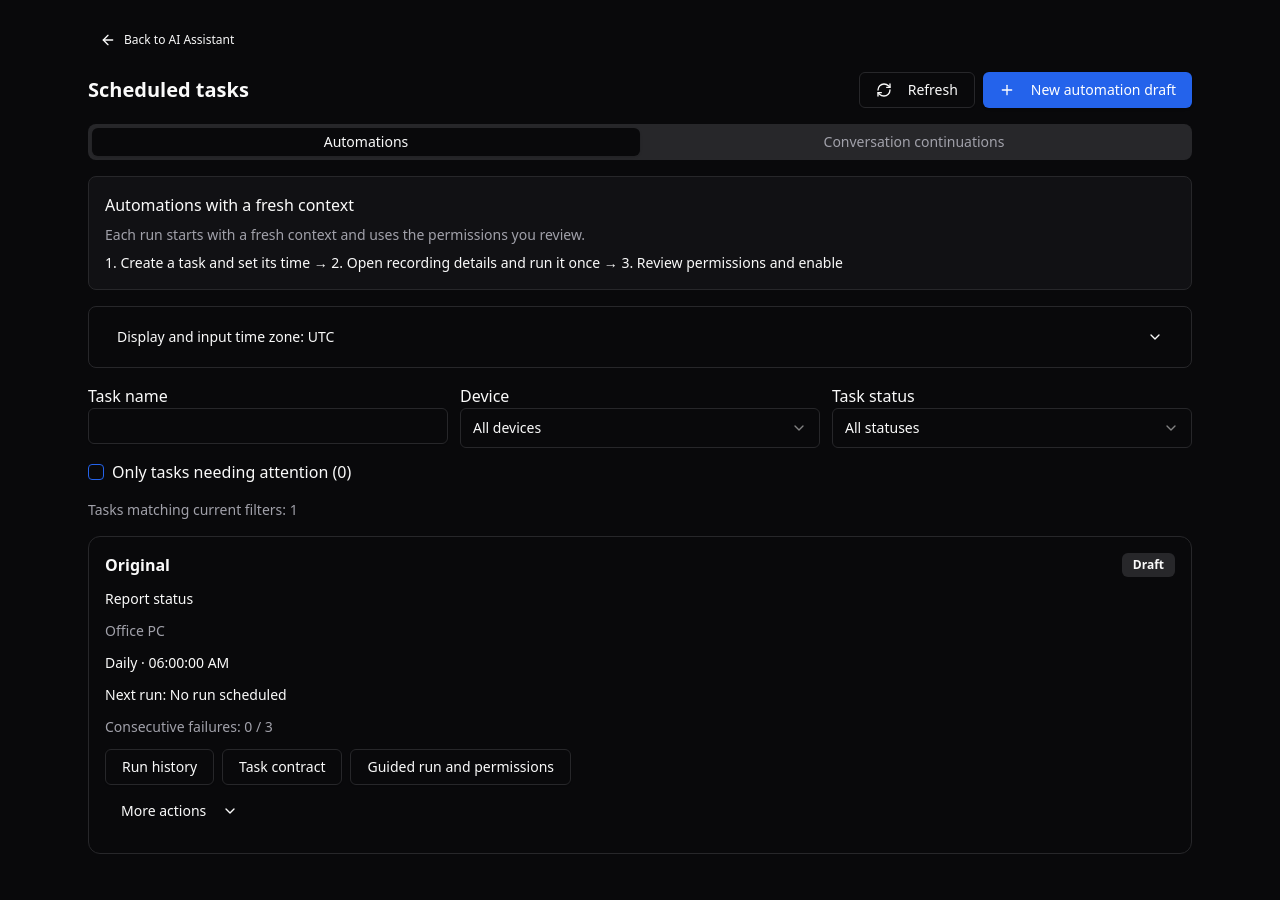
scheduled task management page › shows a rejected edit inside the dialog and retries the same request
Expected: the heading "Original" is shown, [105,553,170,577]
Click the button "More actions".
click(180, 811)  # box [105,793,254,829]
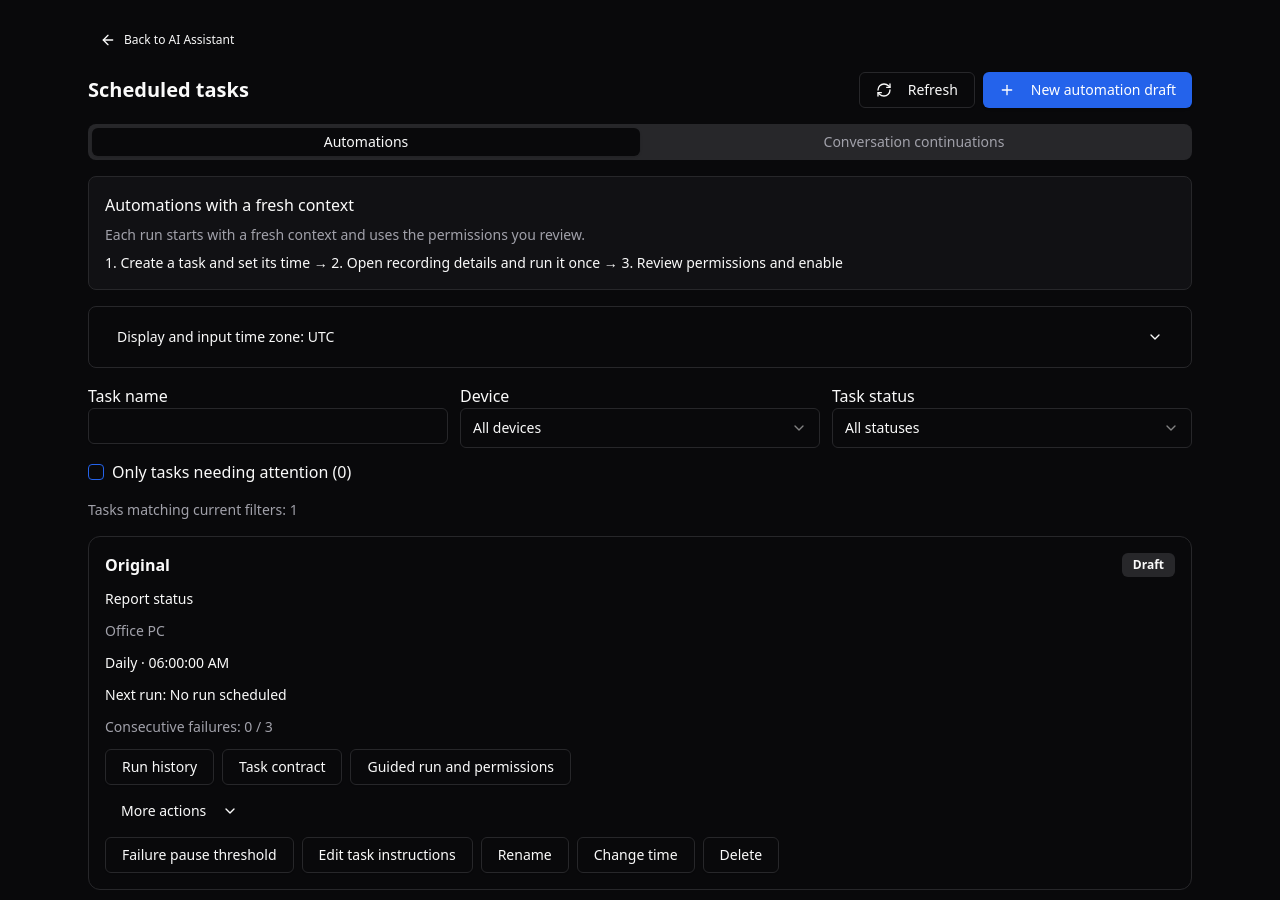
Expected: the button "Change time" is enabled, [577,837,695,873]
Click the button "Rename".
click(525, 855)  # box [481,837,569,873]
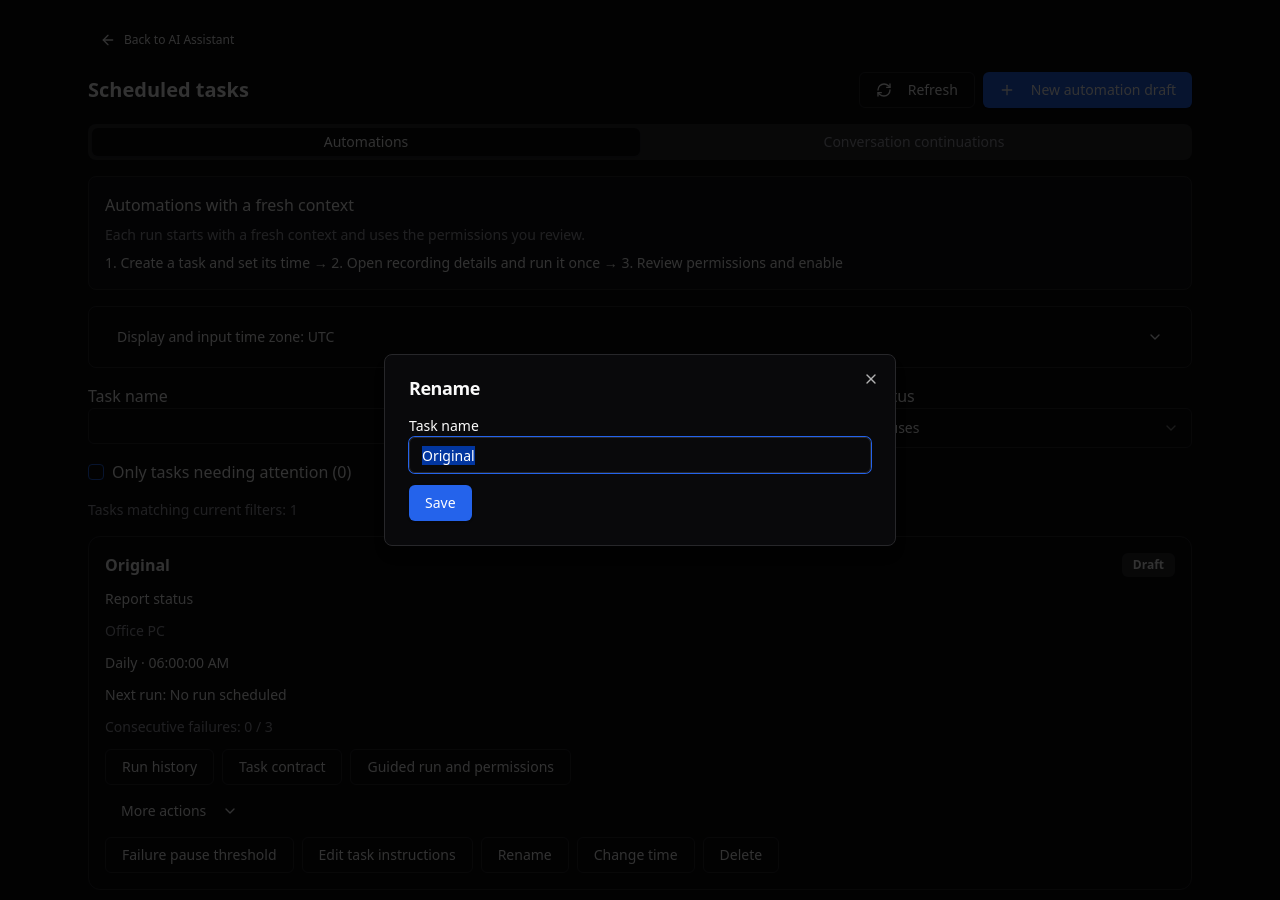
Replace the text in the field labelled "Task name" with "New title" at [640, 455], box [409,437,871,473]
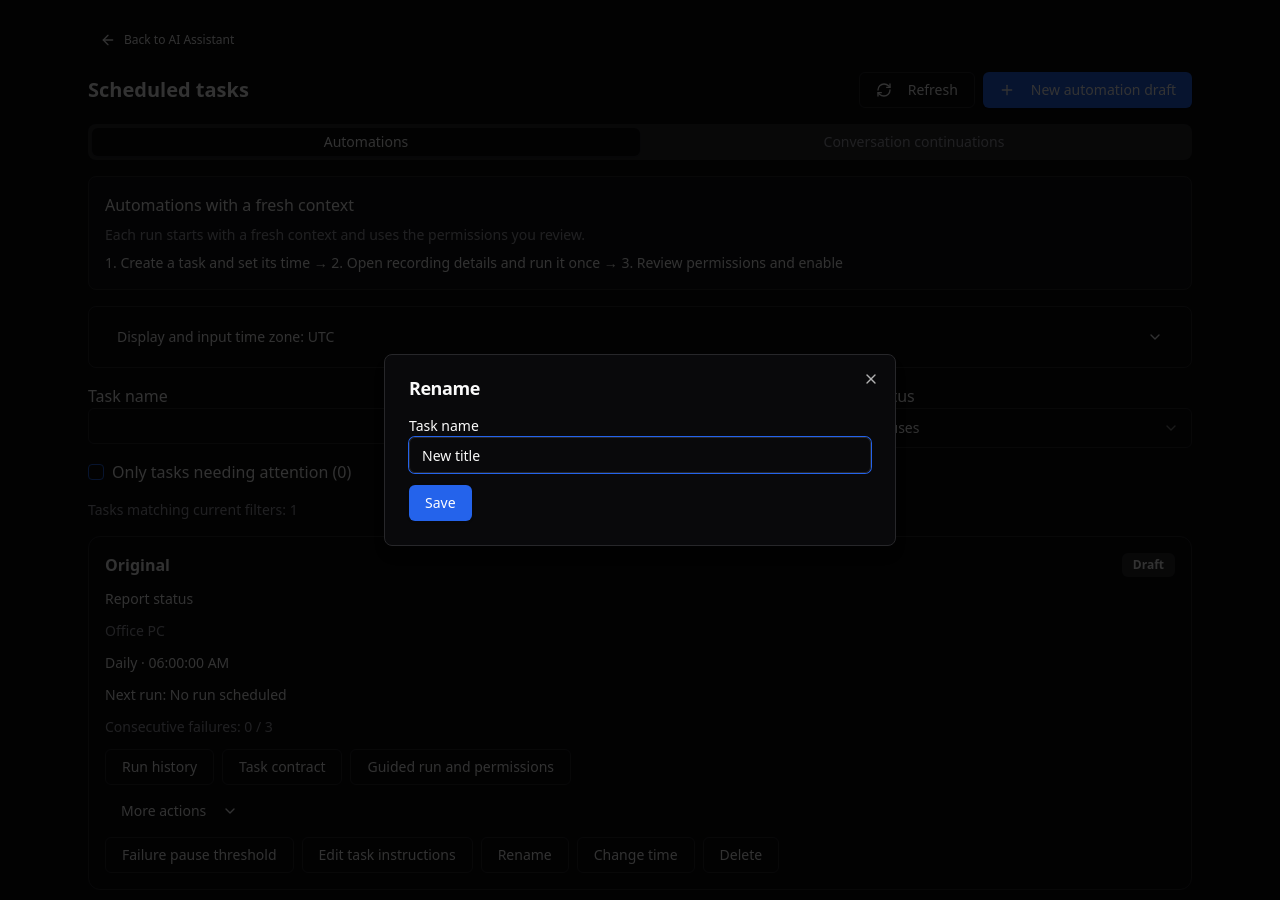
Click the button "Save".
click(440, 503)  # box [409,485,472,521]
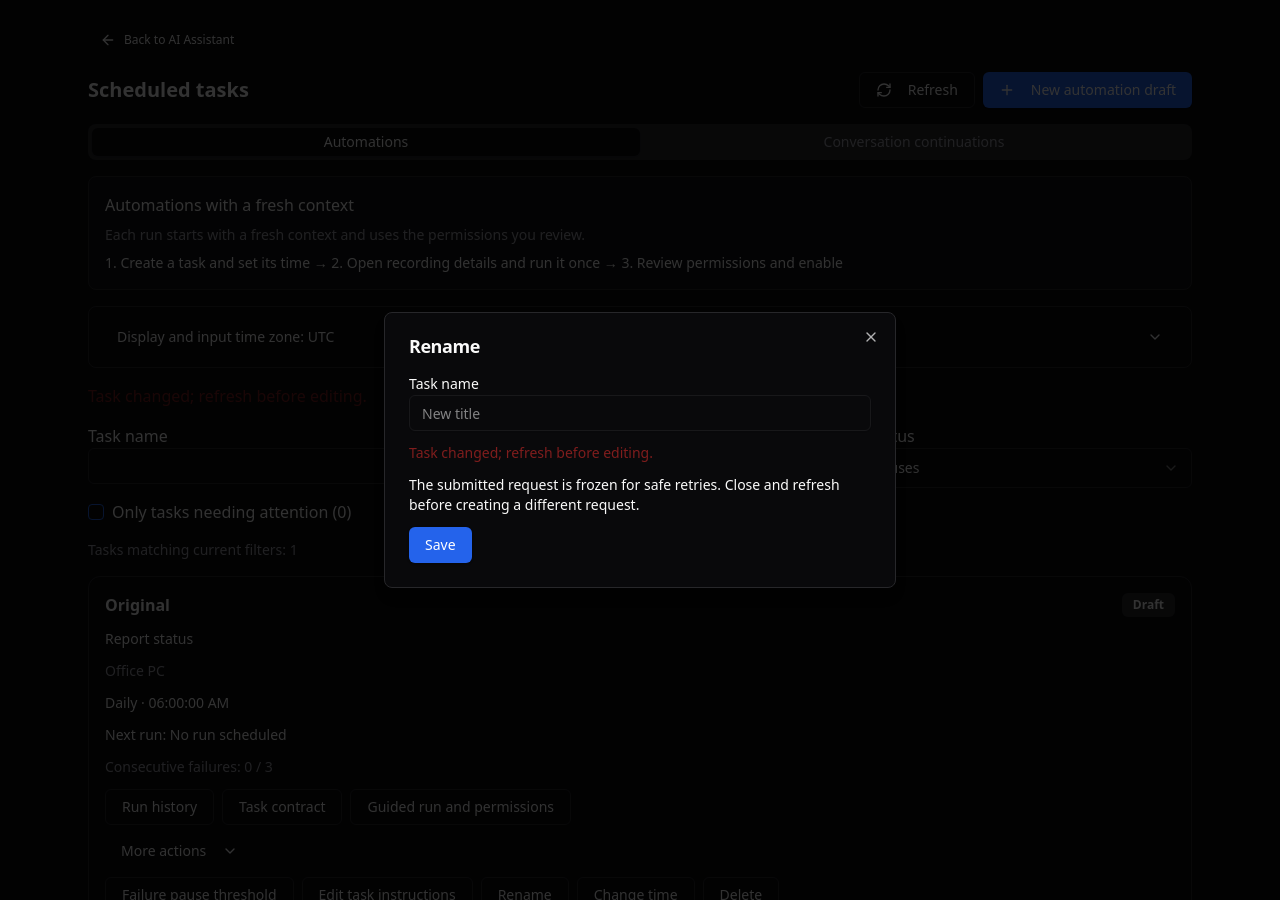
Expected: the field labelled "Task name" is disabled, [409,395,871,431]
Expected: the message reads "Task changed; refresh before editing.", [409,443,653,462]
Click the button "Save".
click(440, 545)  # box [409,527,472,563]
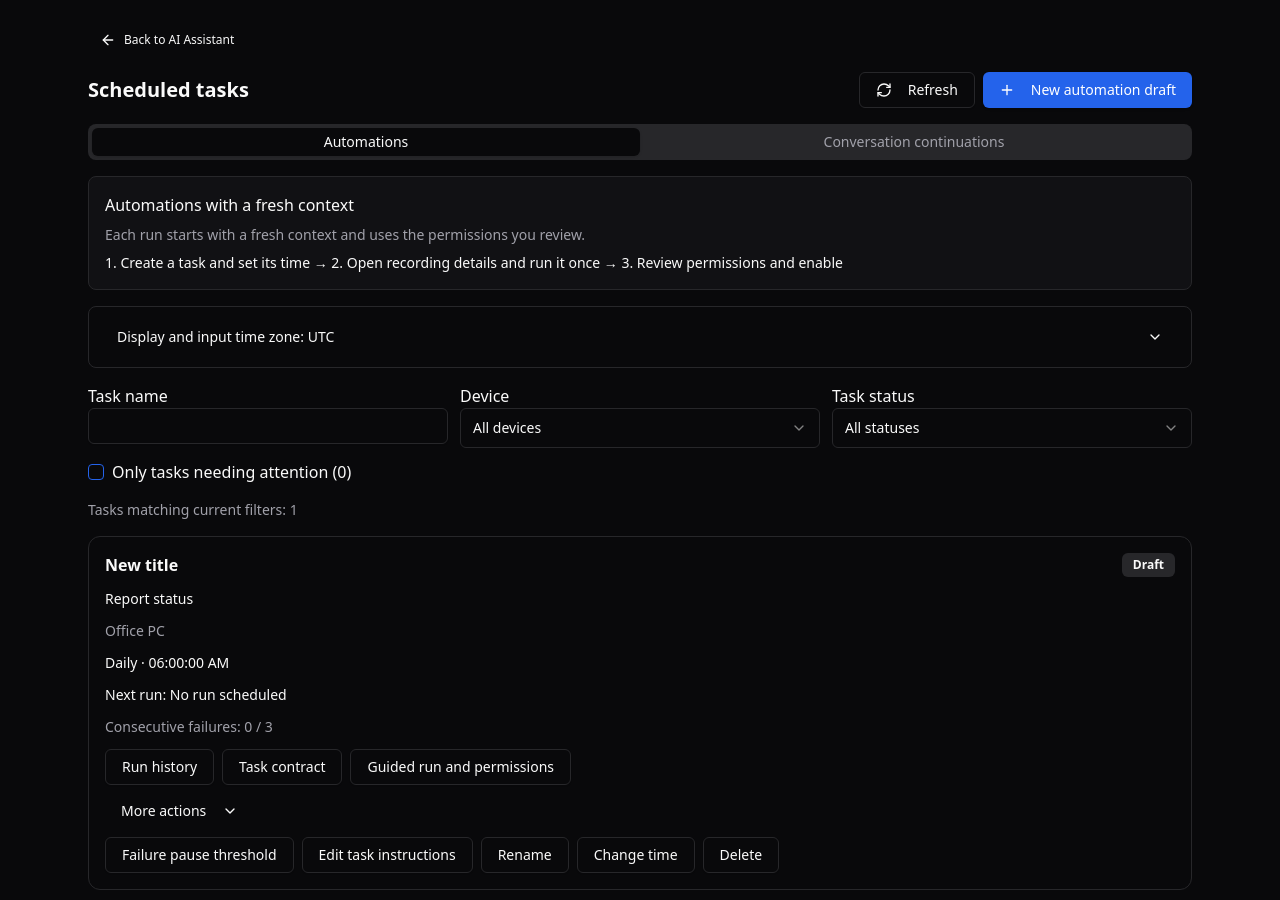
Expected: the dialog is gone
